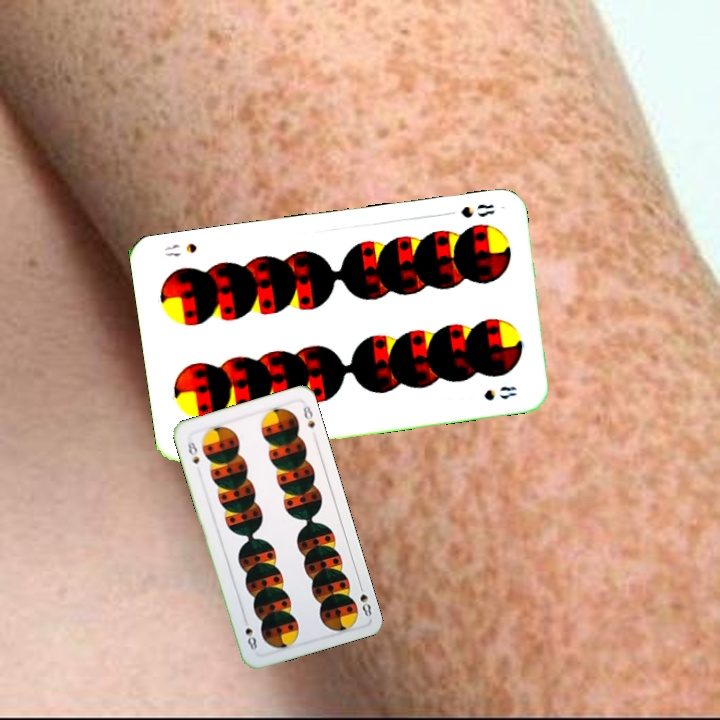S8: (457, 199, 498, 221), (355, 579, 374, 620), (183, 435, 202, 466)
